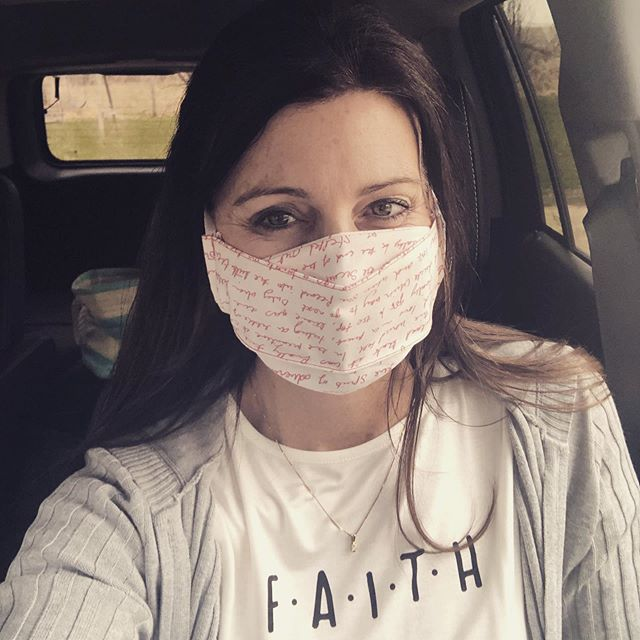homemade: (191, 235, 471, 392)
